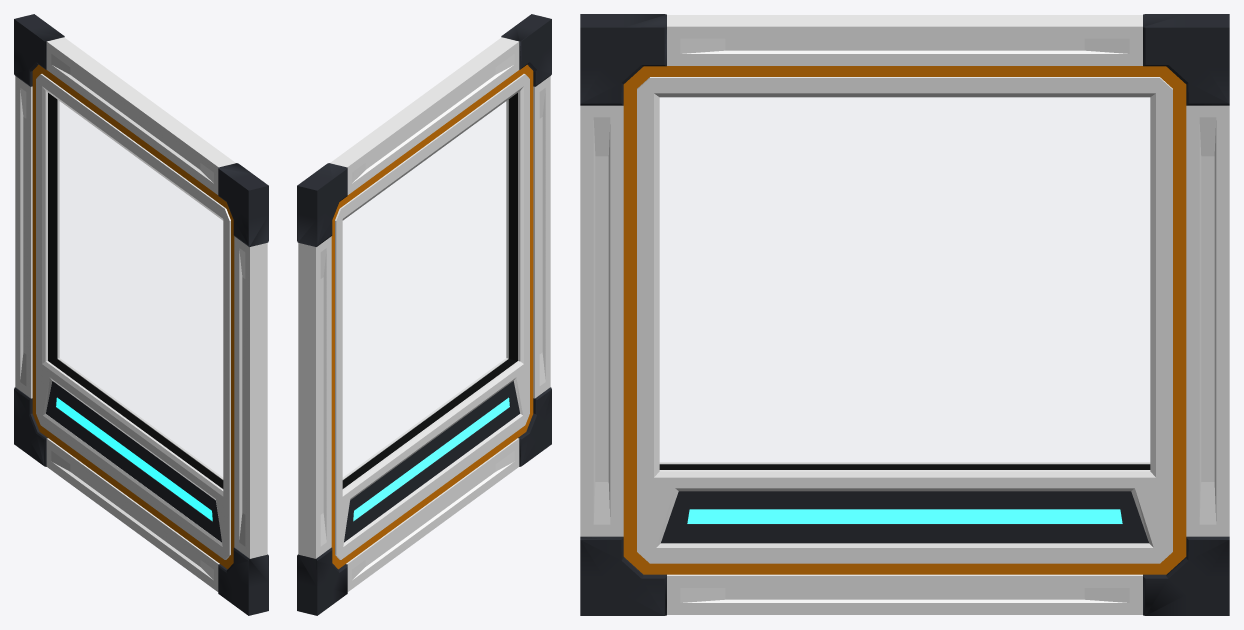
The model's file is SM_WallPanel_Large_Window.fbx.
3 views of the same model, side by side, from view 1: azimuth 30°, elevation 25°; view 2: azimuth 150°, elevation 25°; view 3: azimuth 270°, elevation 25° (orthographic). The views are drawn at different scales.
Visible parts, largest first — view 1: SM_WallPanel_Large_Window.001; view 2: SM_WallPanel_Large_Window.001; view 3: SM_WallPanel_Large_Window.001.
Boxes of the visible parts, x1,y1,x2,y2 form: SM_WallPanel_Large_Window.001: (14,14,268,615); SM_WallPanel_Large_Window.001: (297,14,551,615); SM_WallPanel_Large_Window.001: (580,14,1229,615).
Bounding box in the file's own units: 10 × 200 × 200.
